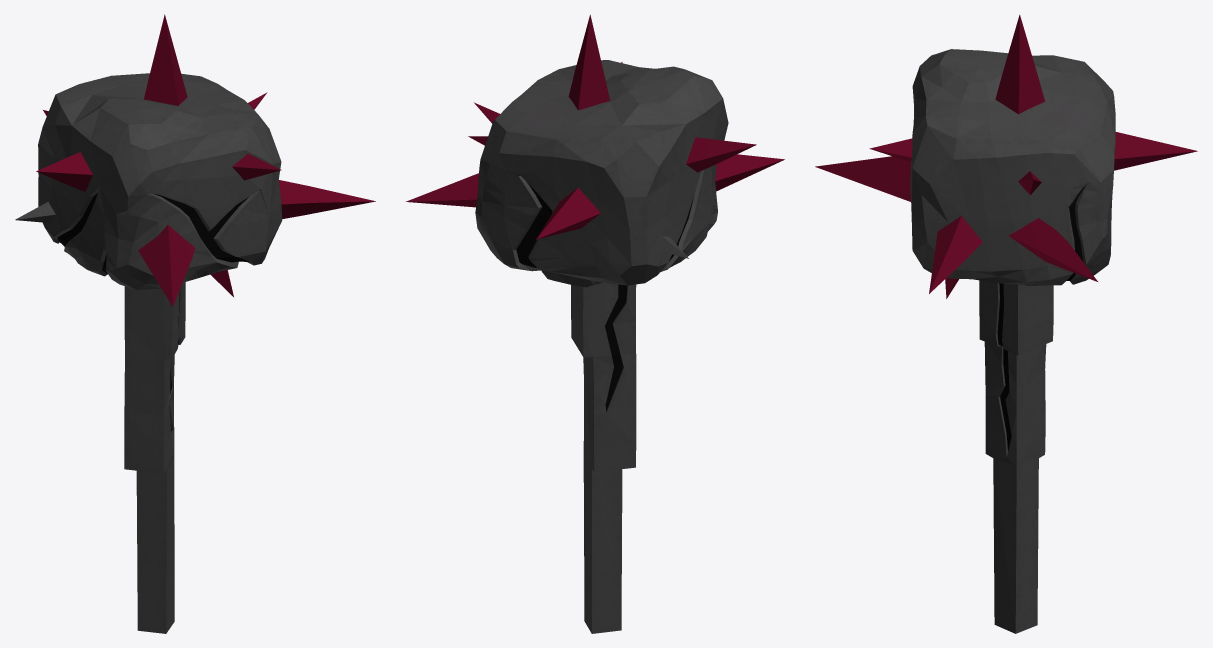
The model's file is AncientKingHammer.fbx.
The picture shows the model from 3 angles, left to right: view 1: azimuth 30°, elevation 25°; view 2: azimuth 150°, elevation 25°; view 3: azimuth 270°, elevation 25°; orthographic projection.
Visible parts, largest first — view 1: SM_WEP_AncientHammer.mo; view 2: SM_WEP_AncientHammer.mo; view 3: SM_WEP_AncientHammer.mo.
Boxes of the visible parts, x1=… form: SM_WEP_AncientHammer.mo: x1=15, y1=14, x2=375, y2=633; SM_WEP_AncientHammer.mo: x1=406, y1=14, x2=784, y2=633; SM_WEP_AncientHammer.mo: x1=815, y1=14, x2=1197, y2=633.
Size of the model in its own units: 69.75 by 129 by 72.82.
Materials: 2 (2 with a texture image).
